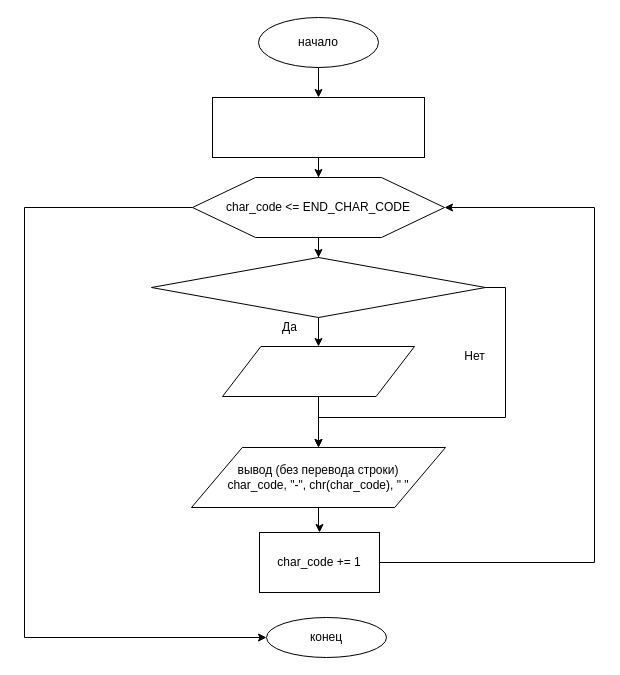
This 620x675 diagram has some shape labels left out. Here are the shapes that lost their labels. From the top down, the centre of each, then its label:
At [318,127]: "START_CHAR_CODE = 32 END_CHAR_CODE = 127 char_code = START_CHAR_CODE".
At [318,287]: "(char_code-START_CHAR_CODE) % 10".
At [318,371]: "вывод (перевод строки)".
